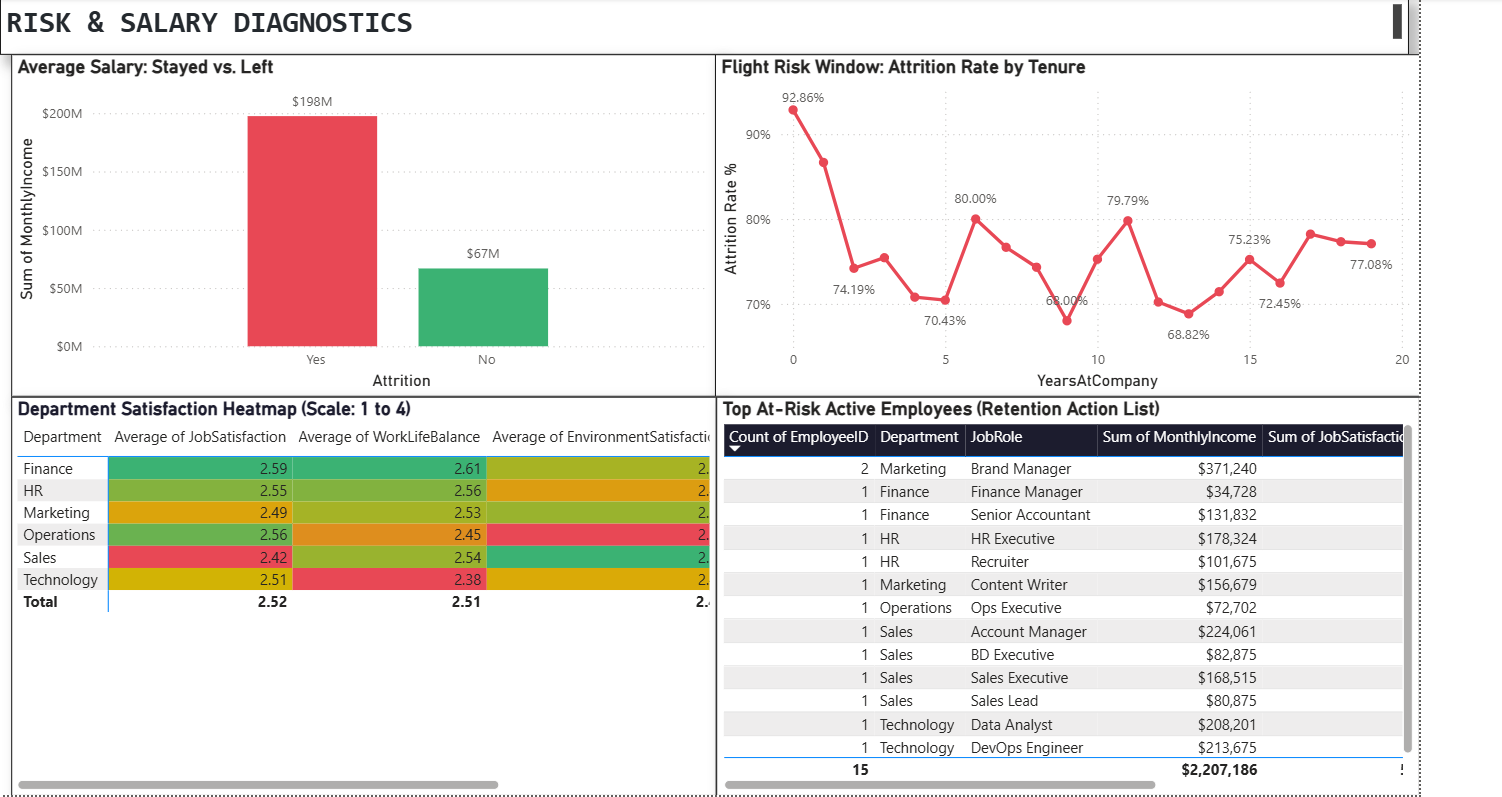

Layout of this report page (visuals, bound fields, positions):
{"tool":"powerbi","page":{"name":"Page 2","canvas":[1280,720],"ordinal":1},"visuals":[{"type":"textbox","box":[0,0,1270.1,51],"z":0},{"type":"clusteredColumnChart","title":"Average Salary: Stayed vs. Left","fields":{"Category":["hr_data.Attrition"],"Y":["Sum(hr_data.MonthlyIncome)"]},"box":[10,51,635.7,308.5],"z":1000},{"type":"lineChart","title":"Flight Risk Window: Attrition Rate by Tenure","fields":{"Category":["hr_data.YearsAtCompany"],"Y":["hr_data.Attrition Rate %"]},"box":[644.4,51,635.7,308.5],"z":2000},{"type":"pivotTable","title":"Department Satisfaction Heatmap (Scale: 1 to 4)","fields":{"Rows":["hr_data.Department"],"Values":["Avg(hr_data.JobSatisfaction)","Avg(hr_data.WorkLifeBalance)","Avg(hr_data.EnvironmentSatisfaction)","Avg(hr_data.RelationshipSatisfaction)"]},"box":[10,359.5,635.7,360.7],"z":3000},{"type":"tableEx","title":"Top At-Risk Active Employees (Retention Action List)","fields":{"Values":["CountNonNull(hr_data.EmployeeID)","hr_data.Department","hr_data.JobRole","Sum(hr_data.MonthlyIncome)","Sum(hr_data.JobSatisfaction)","hr_data.OverTime","Sum(hr_data.YearsSinceLastPromotion)","hr_data.Attrition"]},"box":[645.6,359.5,634.4,360.7],"z":4000}]}

Visuals, with their boxes in screenshot pixels (x1, y1, x2, y2):
textbox: pyautogui.locateOnScreen(8, 4, 1396, 60)
"Average Salary: Stayed vs. Left" clusteredColumnChart: pyautogui.locateOnScreen(19, 60, 714, 397)
"Flight Risk Window: Attrition Rate by Tenure" lineChart: pyautogui.locateOnScreen(712, 60, 1407, 397)
"Department Satisfaction Heatmap (Scale: 1 to 4)" pivotTable: pyautogui.locateOnScreen(19, 397, 714, 791)
"Top At-Risk Active Employees (Retention Action List)" tableEx: pyautogui.locateOnScreen(713, 397, 1407, 791)
